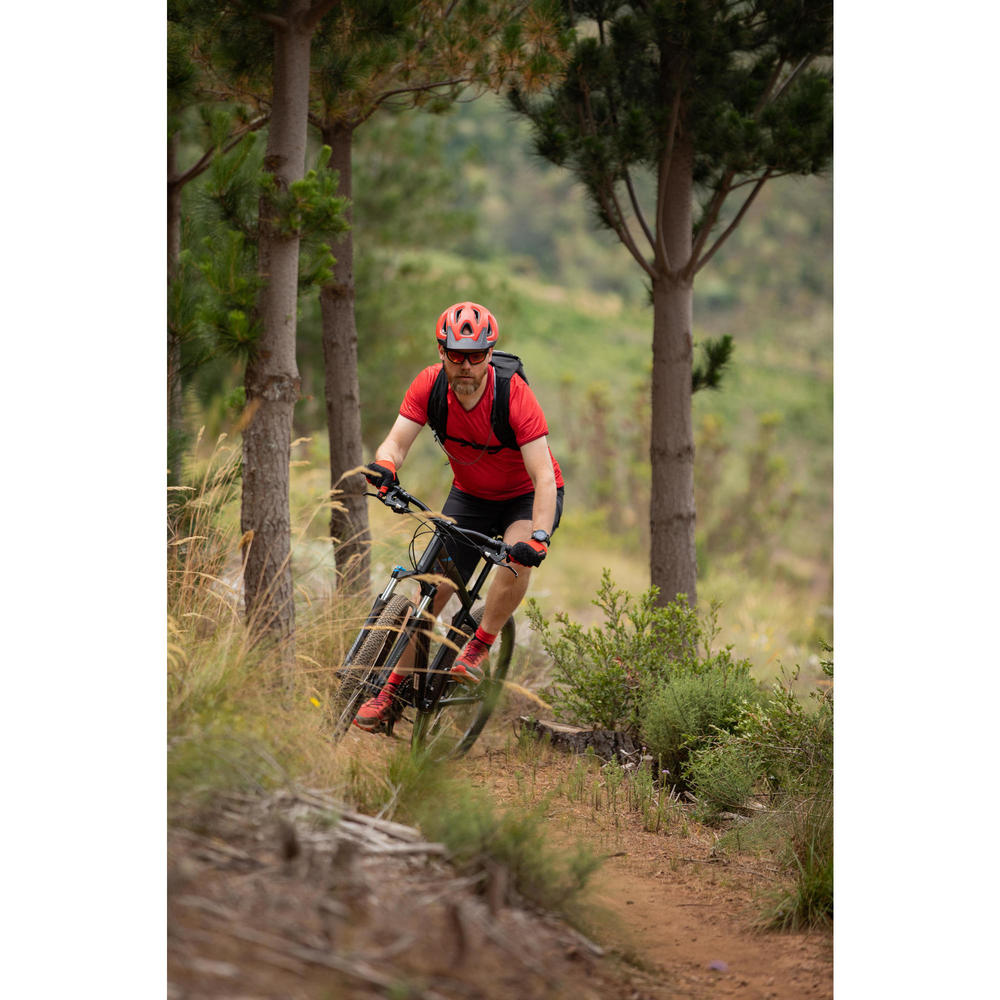MountainBike: (317, 460, 552, 807)
